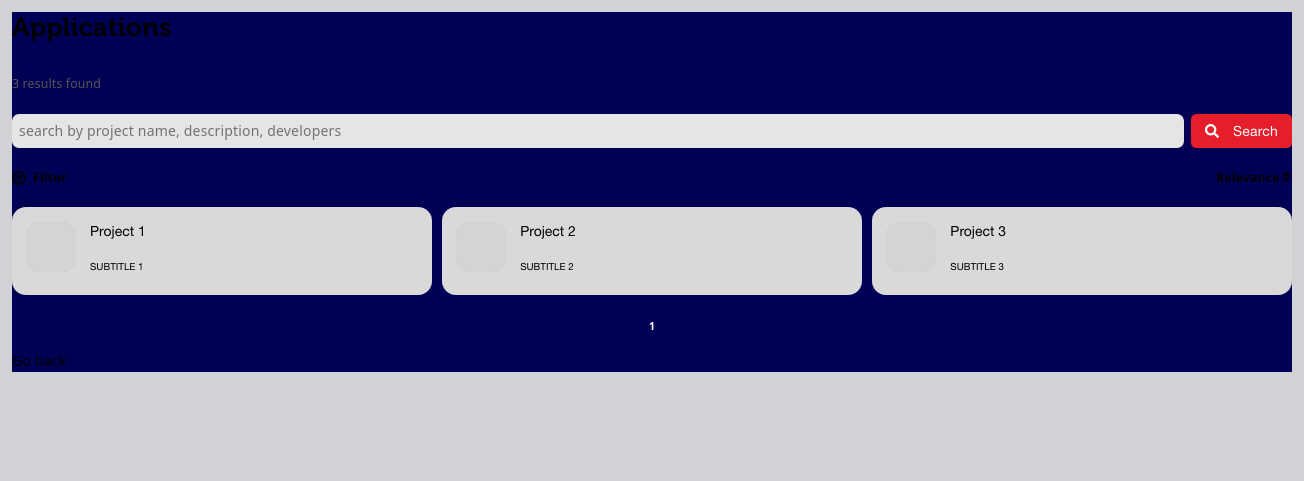
Test case: SearchResultsPage › filters › offers categories and showcases but not the published filter
Expected: the text "3 results found" is shown, x1=12 y1=75 x2=101 y2=92
Click the button "Filter": (39, 178) x1=12 y1=169 x2=66 y2=186
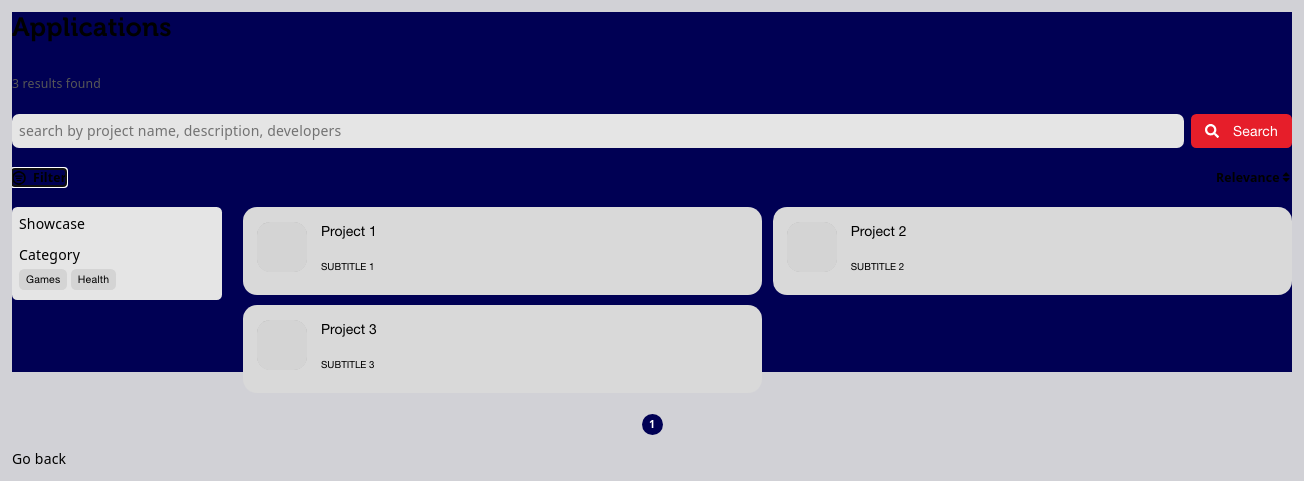
Expected: the text "Showcase" is shown, x1=19 y1=214 x2=85 y2=235
Expected: the text "Category" is shown, x1=19 y1=245 x2=80 y2=264
